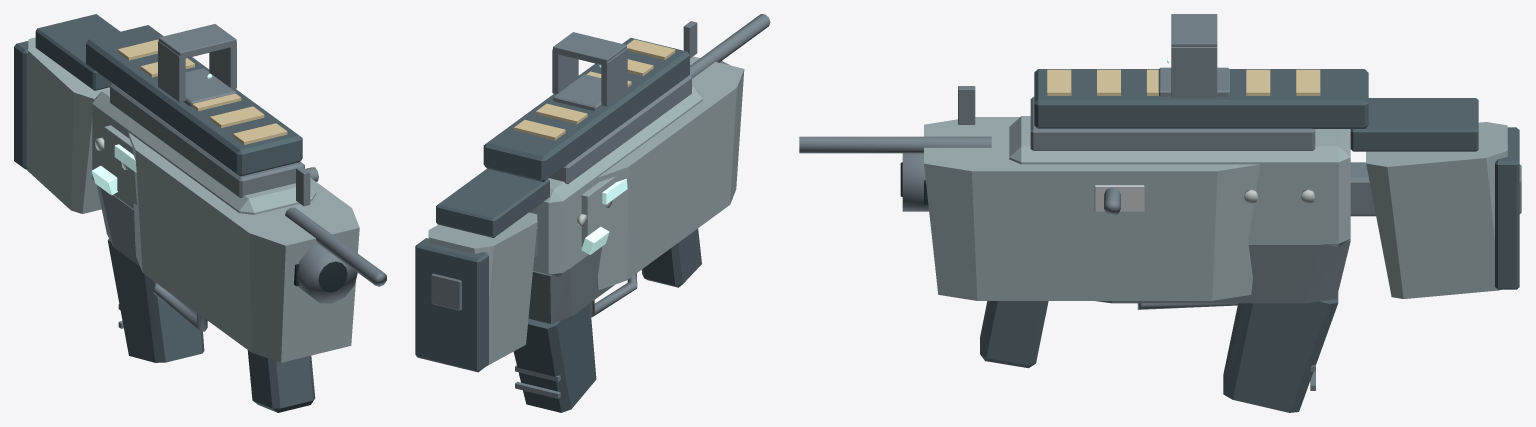
Rendered from purr90.glb.
The picture shows the model from 3 angles, left to right: view 1: azimuth 30°, elevation 25°; view 2: azimuth 150°, elevation 25°; view 3: azimuth 270°, elevation 25°; orthographic projection. The views are drawn at different scales.
Visible parts, largest first — view 1: bullpup_shell_28, magazine_top_29, stock_23, pistol_grip_17, receiver_1, receiver_top_cover_3, foregrip_36, cheek_rest_25, muzzle_brake_45, gas_tube_27, stock_pad_24, receiver_lower_2 (+14 smaller); view 2: bullpup_shell_28, magazine_top_29, stock_pad_24, stock_23, pistol_grip_17, receiver_1, cheek_rest_25, receiver_lower_2, receiver_top_cover_3, foregrip_36, receiver_side_plate_4, sight_top_54 (+13 smaller); view 3: bullpup_shell_28, stock_23, magazine_top_29, receiver_1, pistol_grip_17, receiver_top_cover_3, cheek_rest_25, receiver_lower_2, foregrip_36, stock_pad_24, gas_tube_27, sight_right_53 (+10 smaller).
Part boxes in pixels (x1,y1,x2,y2): bullpup_shell_28: (128, 132, 359, 362); magazine_top_29: (86, 25, 302, 176); stock_23: (26, 37, 109, 213); pistol_grip_17: (107, 239, 204, 362); receiver_1: (92, 89, 316, 214); receiver_top_cover_3: (110, 83, 304, 198); foregrip_36: (247, 350, 315, 412); cheek_rest_25: (35, 14, 120, 90); muzzle_brake_45: (297, 244, 357, 303); gas_tube_27: (285, 207, 386, 286); stock_pad_24: (14, 41, 28, 169); receiver_lower_2: (97, 185, 139, 266); bullpup_shell_28: (597, 56, 744, 290); magazine_top_29: (483, 37, 689, 181); stock_pad_24: (415, 238, 488, 372); stock_23: (428, 212, 537, 365); pistol_grip_17: (513, 303, 596, 412); receiver_1: (529, 86, 702, 276); cheek_rest_25: (436, 168, 549, 237); receiver_lower_2: (528, 247, 614, 323); receiver_top_cover_3: (549, 75, 691, 183); foregrip_36: (641, 228, 701, 287); receiver_side_plate_4: (581, 177, 619, 246); sight_top_54: (553, 32, 626, 65); bullpup_shell_28: (924, 117, 1260, 300); stock_23: (1366, 122, 1507, 298); magazine_top_29: (1034, 69, 1368, 128); receiver_1: (1009, 116, 1350, 246); pistol_grip_17: (1223, 293, 1338, 412); receiver_top_cover_3: (1030, 96, 1315, 150); cheek_rest_25: (1350, 98, 1478, 151); receiver_lower_2: (1096, 239, 1350, 303); foregrip_36: (980, 301, 1048, 368); stock_pad_24: (1495, 127, 1519, 289); gas_tube_27: (799, 136, 991, 153); sight_right_53: (1171, 47, 1217, 97).
Size of the model in its own units: 0.2365 by 0.5793 by 1.02.
